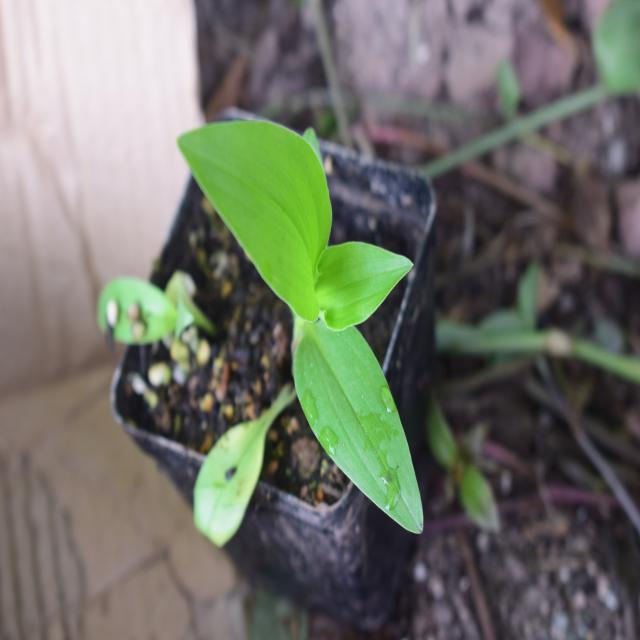Common Dayflower: (167, 116, 433, 534)
